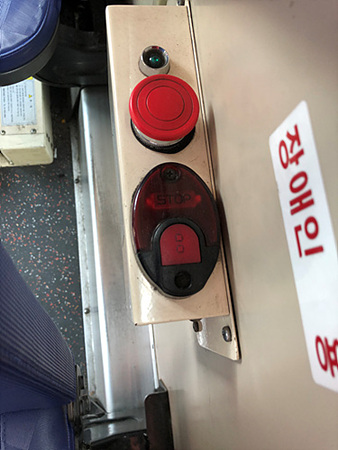bell: (132, 161, 222, 298)
